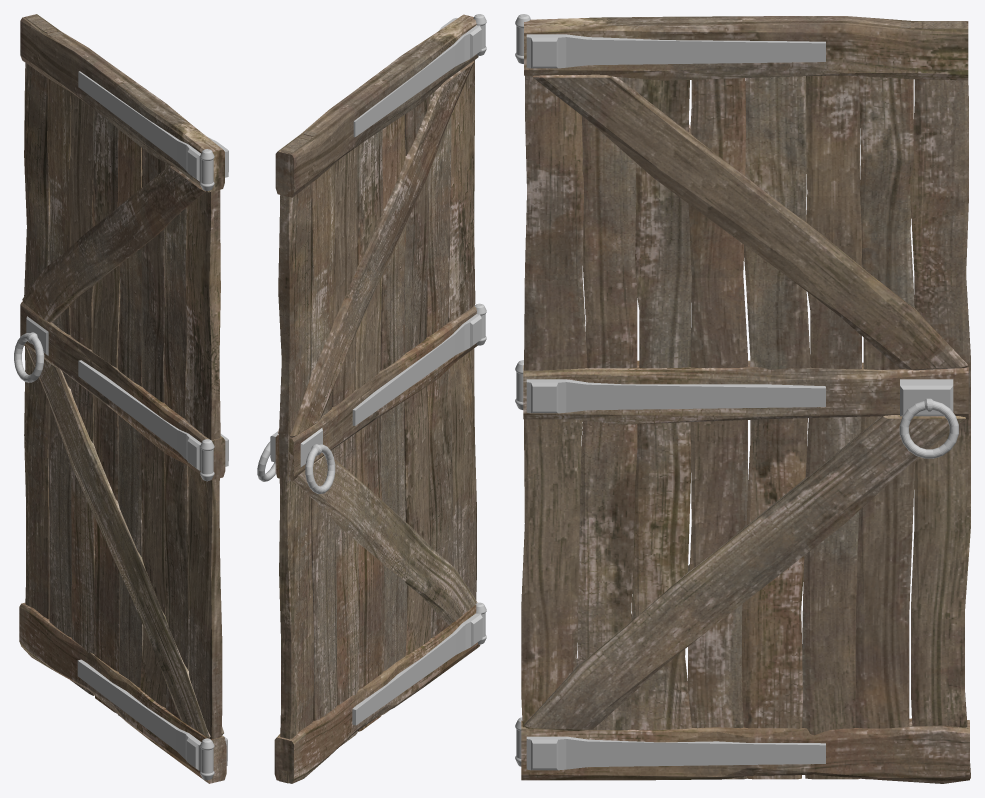
The model's file is SM_Door_02.fbx.
The picture shows the model from 3 angles, left to right: view 1: azimuth 30°, elevation 25°; view 2: azimuth 150°, elevation 25°; view 3: azimuth 270°, elevation 25°; orthographic projection. The views are drawn at different scales.
Parts seen in each view (by area): view 1: SM_Door_02_LOD0; view 2: SM_Door_02_LOD0; view 3: SM_Door_02_LOD0.
Boxes of the visible parts, x1,y1,x2,y2 form: SM_Door_02_LOD0: (14,14,228,783); SM_Door_02_LOD0: (257,14,486,783); SM_Door_02_LOD0: (515,14,970,783).
Size of the model in its own units: 21.02 by 113 by 208.
